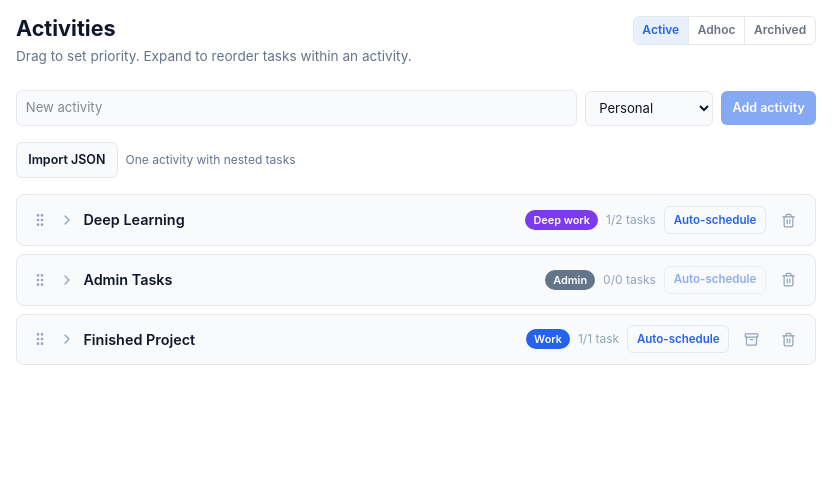
Test case: ActivitiesPage › shows empty state for activity with no tasks
Click the text "Admin Tasks" at (128, 280), box [83, 271, 172, 288]
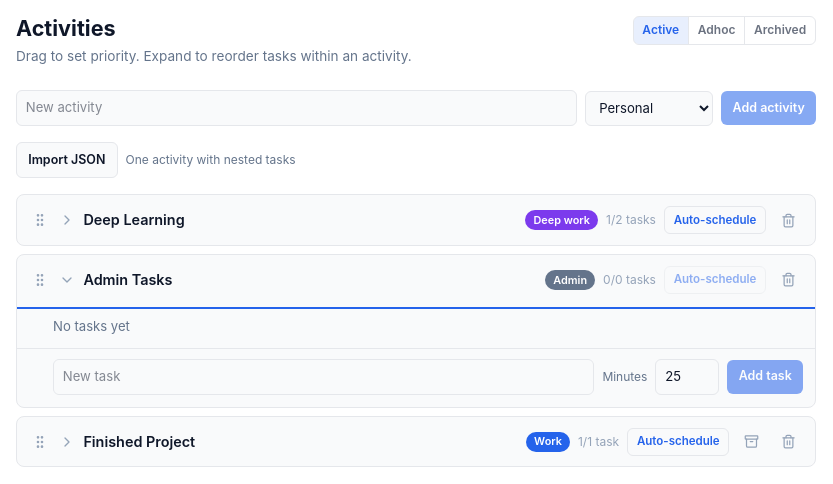
Now the text "No tasks yet" is shown, box [53, 318, 130, 334]
